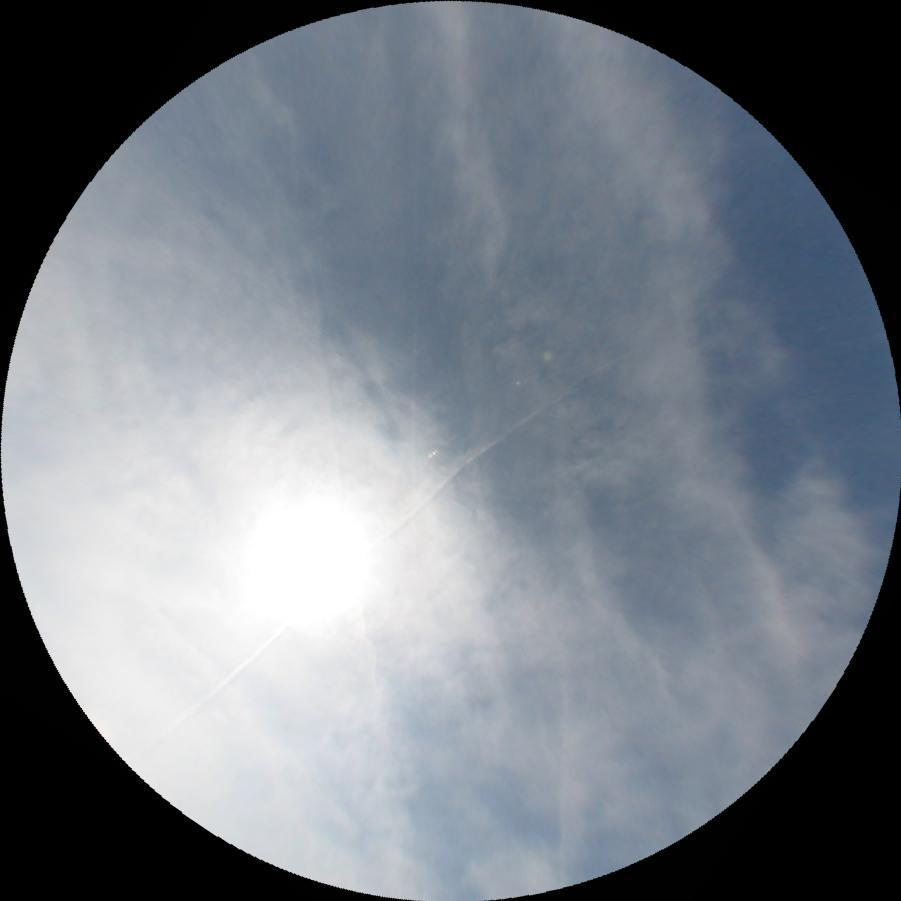contrail old: (165, 333, 635, 725), (557, 650, 576, 861), (409, 186, 418, 555)
contrail veryold: (299, 246, 347, 489)
sun: (234, 483, 374, 633)
